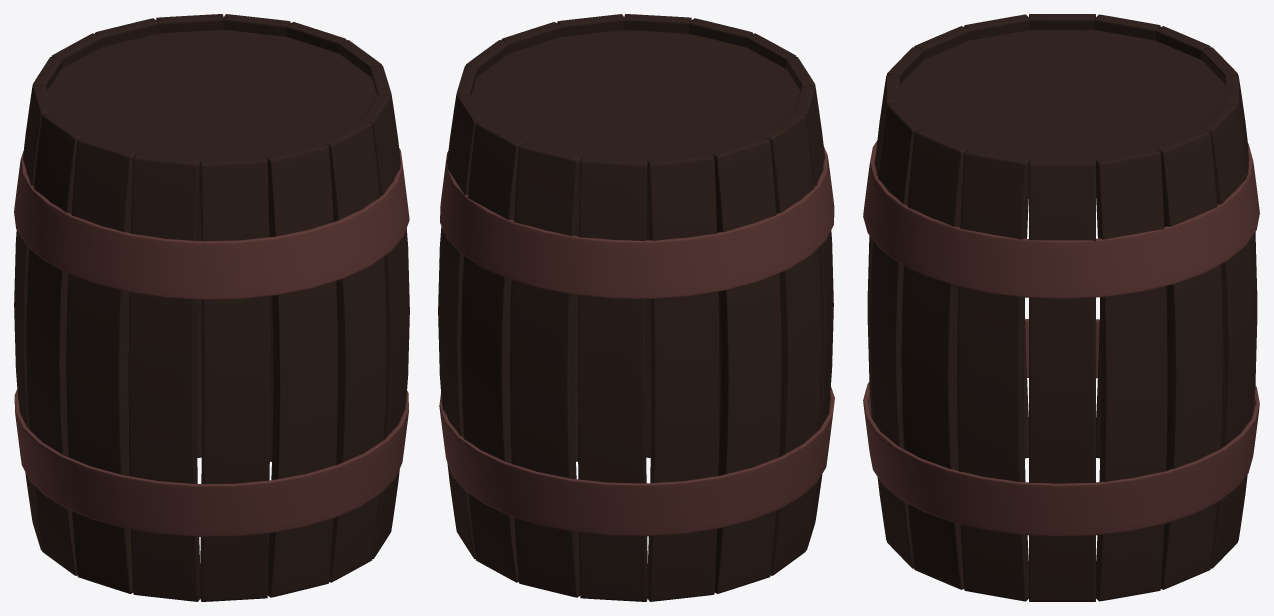
The model's file is barrel.fbx.
3 views of the same model, side by side, from view 1: azimuth 30°, elevation 25°; view 2: azimuth 150°, elevation 25°; view 3: azimuth 270°, elevation 25° (orthographic).
Parts seen in each view (by area): view 1: Cube; view 2: Cube; view 3: Cube.
Boxes of the visible parts, left/top/right/bottom form: Cube: left=14, top=14, right=409, bottom=601; Cube: left=438, top=14, right=834, bottom=601; Cube: left=863, top=14, right=1259, bottom=601.
Bounding box in the file's own units: 12.72 × 15.53 × 12.72.
